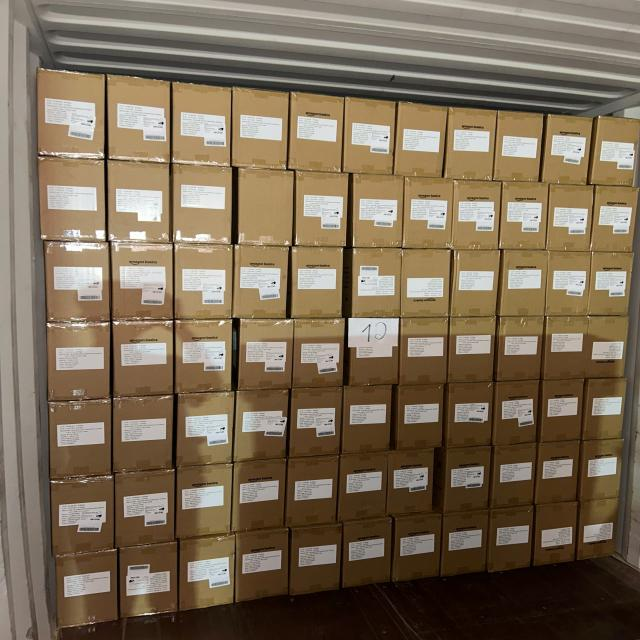Carton: (39, 66, 107, 158), (40, 160, 108, 245), (45, 242, 112, 326), (110, 76, 172, 166), (110, 160, 173, 245), (50, 400, 113, 480), (112, 244, 175, 324), (48, 325, 112, 403), (174, 83, 233, 167), (51, 479, 114, 557), (175, 165, 235, 246), (53, 550, 117, 625), (233, 87, 290, 170), (115, 321, 176, 398), (115, 471, 175, 549), (114, 396, 174, 472), (176, 246, 234, 324), (239, 167, 296, 246), (119, 540, 178, 615), (289, 92, 342, 173), (178, 464, 236, 538), (179, 393, 235, 469), (177, 318, 234, 392), (182, 536, 236, 614), (234, 247, 289, 321), (294, 170, 346, 247), (344, 96, 394, 176), (234, 530, 288, 604), (350, 172, 402, 248), (240, 316, 294, 389), (233, 391, 287, 464), (234, 459, 287, 533), (291, 248, 343, 323), (397, 104, 446, 181), (347, 249, 399, 320), (286, 457, 338, 528), (292, 316, 343, 388), (346, 320, 398, 390), (289, 388, 341, 458), (445, 108, 493, 183), (404, 176, 454, 248), (290, 526, 340, 598), (343, 521, 392, 592), (543, 112, 591, 184), (343, 384, 392, 454), (403, 250, 452, 320), (593, 114, 640, 186), (452, 248, 500, 318), (494, 109, 540, 182), (401, 317, 449, 386), (395, 514, 443, 583), (339, 454, 388, 521), (442, 448, 490, 516), (397, 387, 446, 453), (456, 180, 502, 250), (446, 316, 493, 384), (500, 183, 546, 252), (444, 383, 492, 449), (499, 249, 545, 317), (496, 316, 543, 382), (440, 514, 487, 580), (547, 184, 591, 253), (388, 452, 434, 518), (590, 186, 635, 253), (494, 381, 538, 447), (489, 508, 533, 574), (546, 251, 589, 318), (577, 500, 620, 566), (545, 317, 589, 381), (492, 445, 536, 509), (542, 379, 585, 443), (534, 506, 578, 568), (580, 439, 624, 501), (588, 252, 630, 316), (538, 442, 580, 505), (581, 379, 624, 440), (586, 316, 625, 378)
